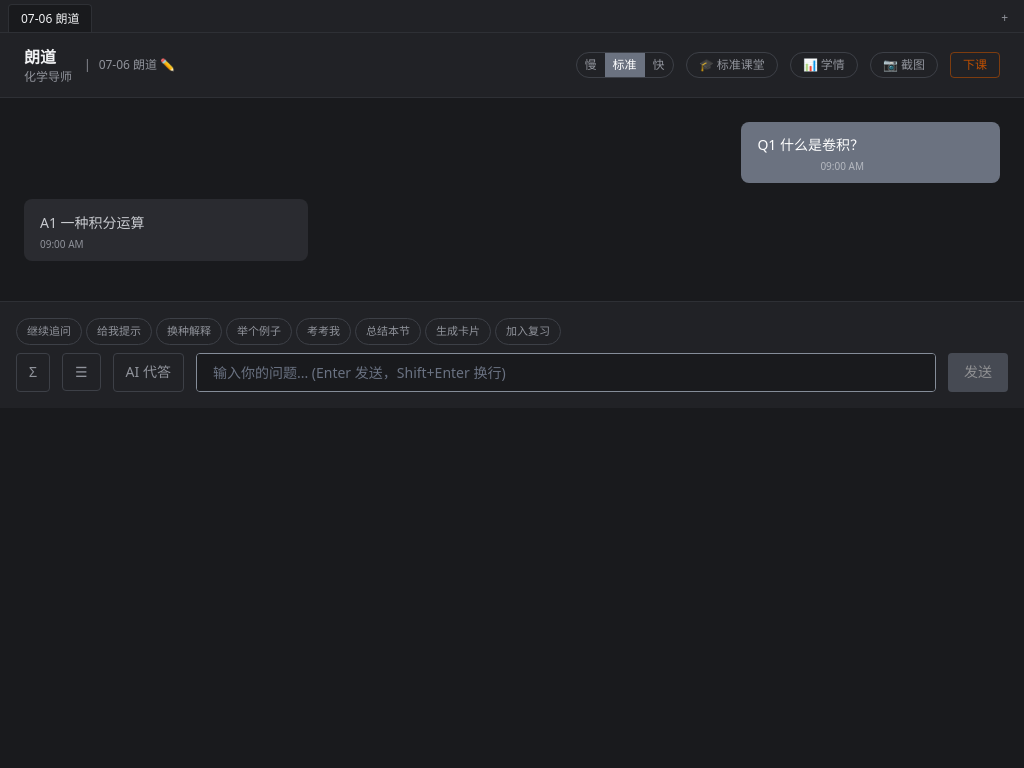
Test: ClassroomView — regenerate flow › sending a new message persists it exactly once and appends one bubble
This screenshot has width=1024, height=768.
Expected: the text "A1 一种积分运算" is shown, [40,211,145,235]
Type "Q2 新问题" into the text box with placeholder "输入你的问题... (Enter 发送，Shift+Enter 换行)".
click(566, 372); type("Q2 新问题")  # box [196,352,936,392]
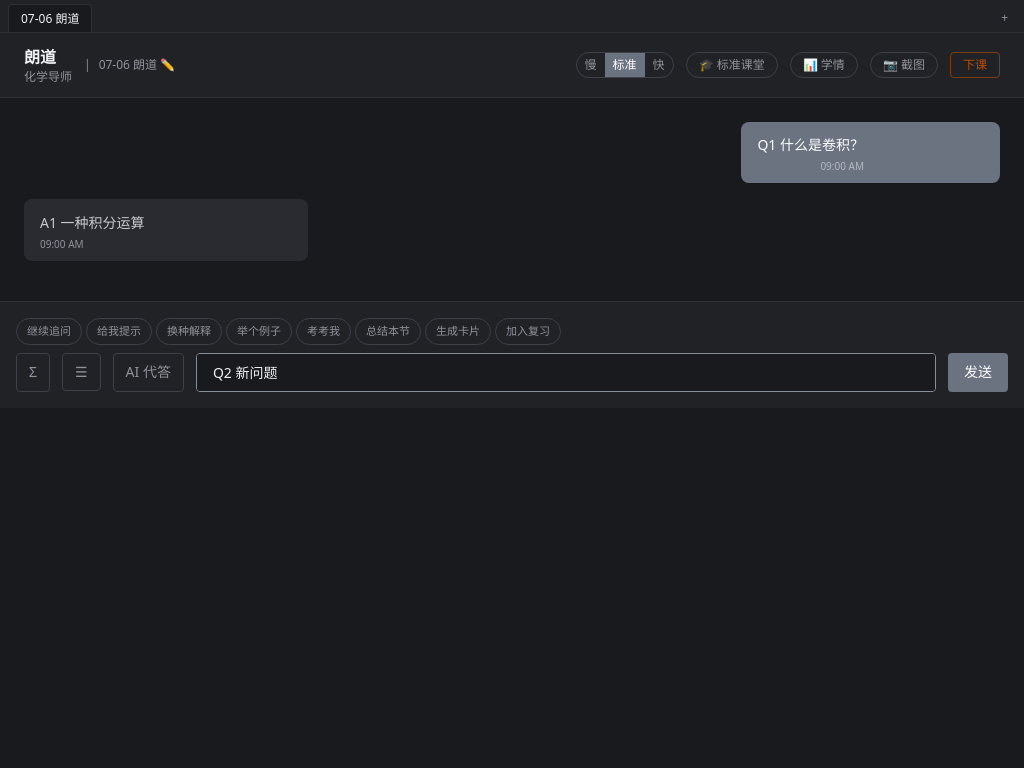
Click the button "发送".
click(978, 372)  # box [948,352,1008,392]
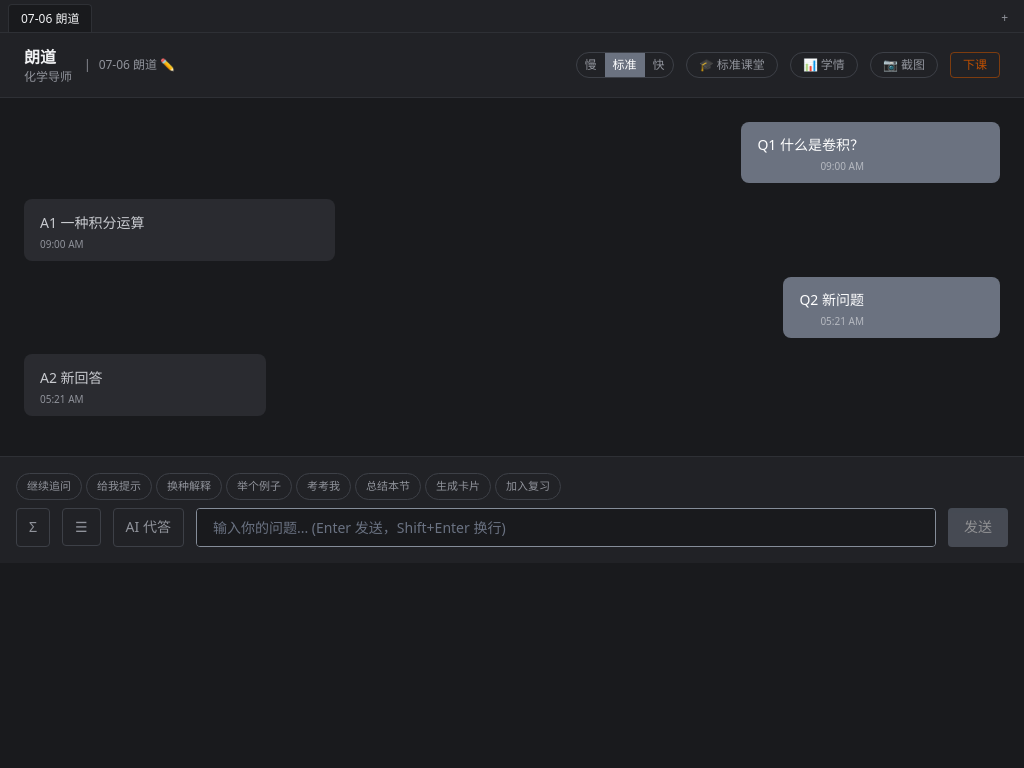
Now the text "Q2 新问题" is shown, box [799,289,864,312]
Now the text "Q2 新问题" is shown once, box [799,289,864,312]
Now the text "A2 新回答" is shown, box [40,366,103,390]
